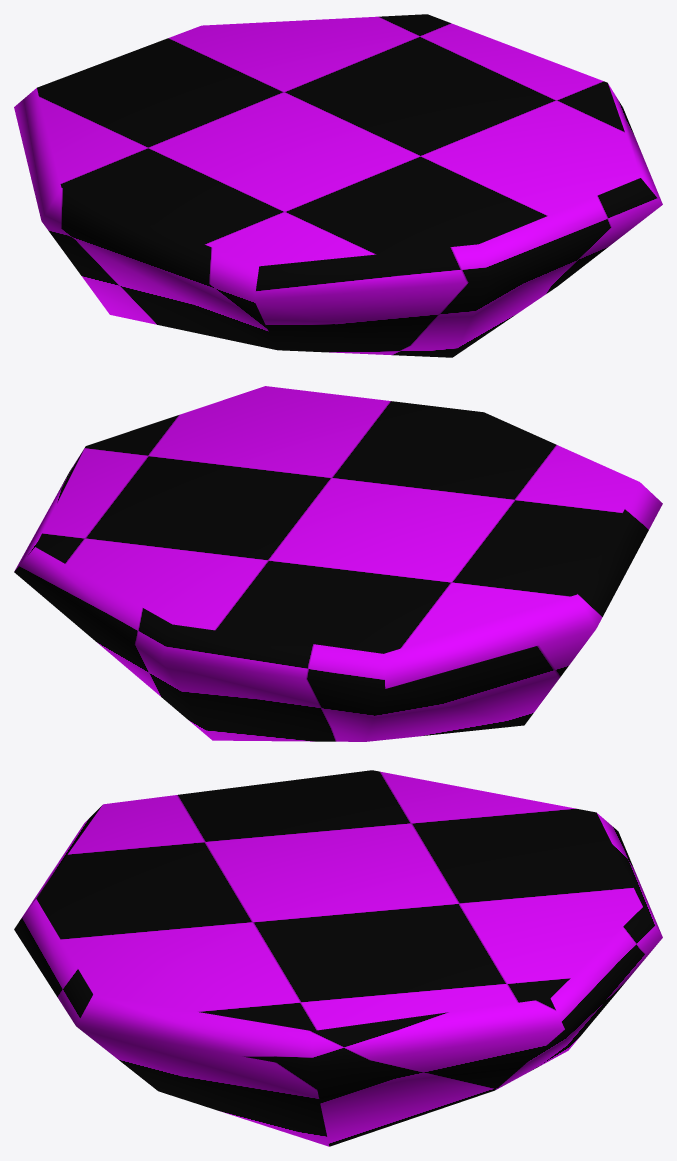
The model's file is InvisiblePlatform.fbx.
3 views of the same model, one above another, from view 1: azimuth 30°, elevation 25°; view 2: azimuth 150°, elevation 25°; view 3: azimuth 270°, elevation 25° (orthographic). The views are drawn at different scales.
Parts seen in each view (by area): view 1: InvisiblePlatform; view 2: InvisiblePlatform; view 3: InvisiblePlatform.
Part boxes in pixels (x1,y1,x2,y2): InvisiblePlatform: (14, 14, 662, 357); InvisiblePlatform: (14, 386, 662, 741); InvisiblePlatform: (14, 770, 662, 1146).
Bounding box in the file's own units: 1191 × 372 × 1171.
